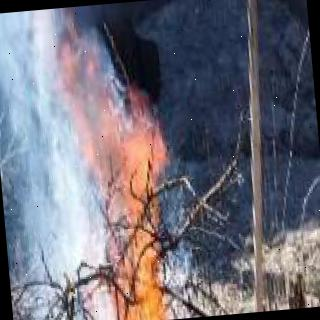fire: (102, 107, 204, 320)
